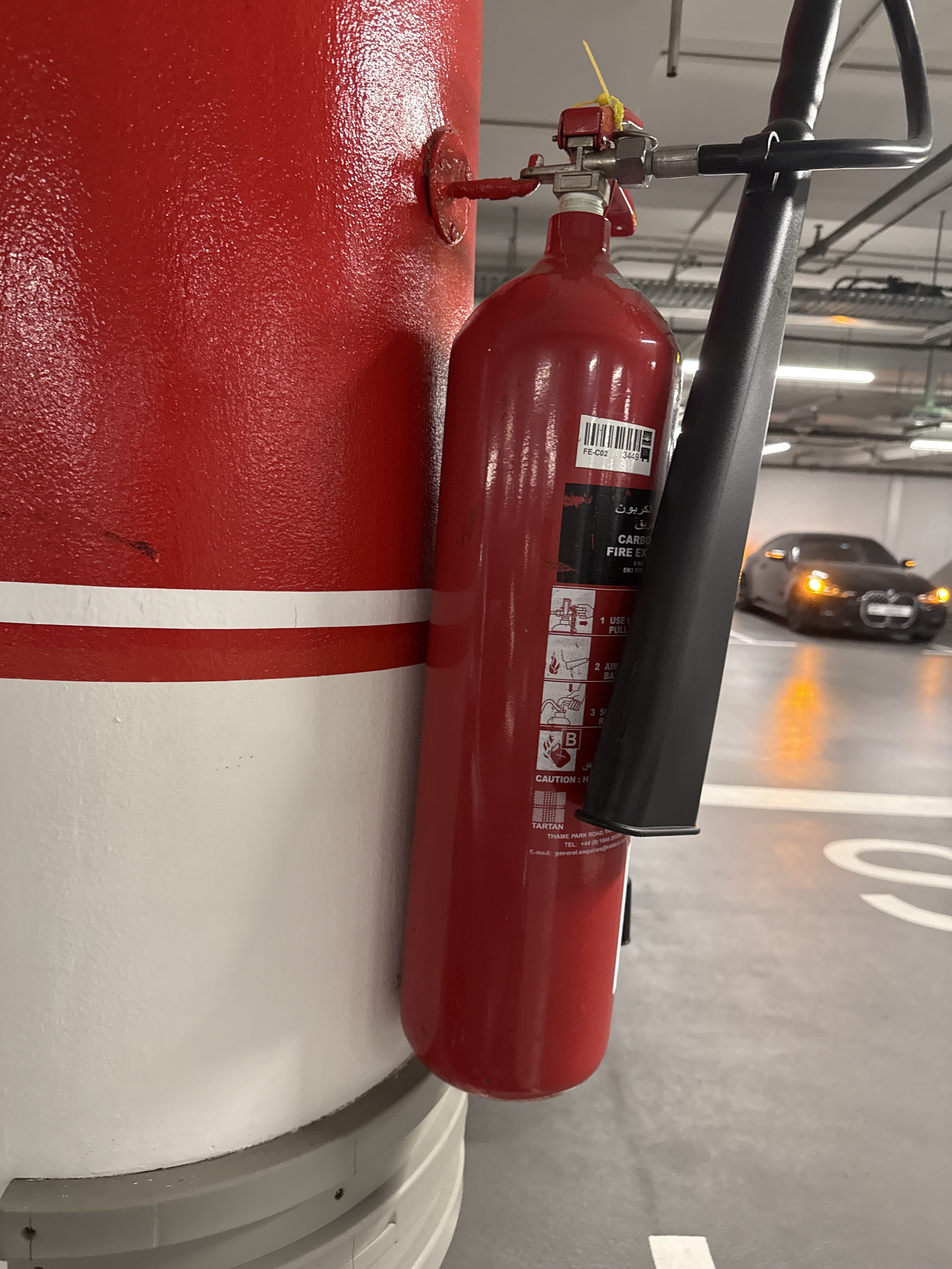fire_extinguisher: (398, 93, 685, 1102)
